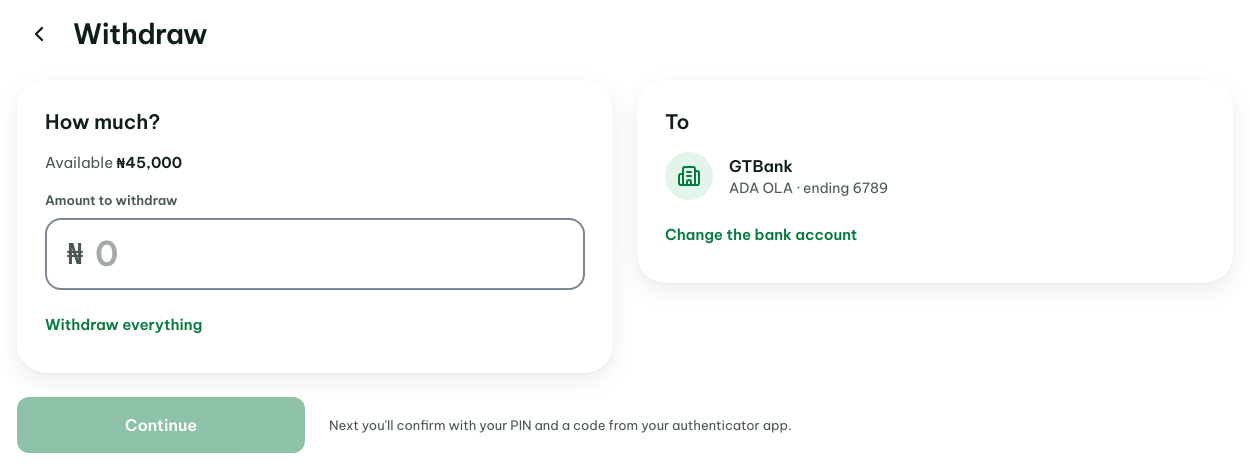
Scenario: choosing where it goes › lets someone with an account change it
The image size is (1251, 470).
Click the button "Change the bank account" at (761, 235), box [665,216,857,254]
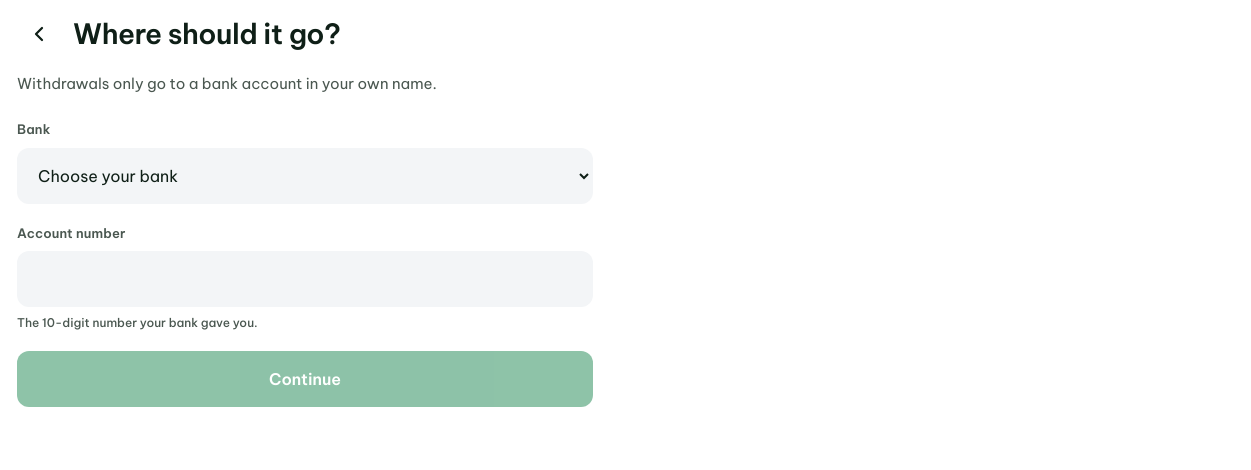
Expected: the heading "Where should it go?" is shown, [73,16,340,51]
